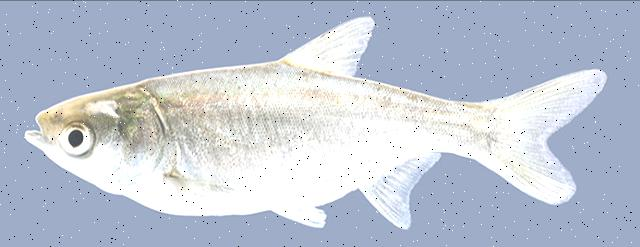Mulut: (19, 101, 51, 152)
Sirip Anal: (362, 144, 444, 230)
Sirip Dada: (167, 162, 257, 218)
Sirip Ekor: (494, 64, 614, 208)
Sirip Perut: (266, 186, 334, 234)
Sirip Punggung: (288, 7, 377, 85)
